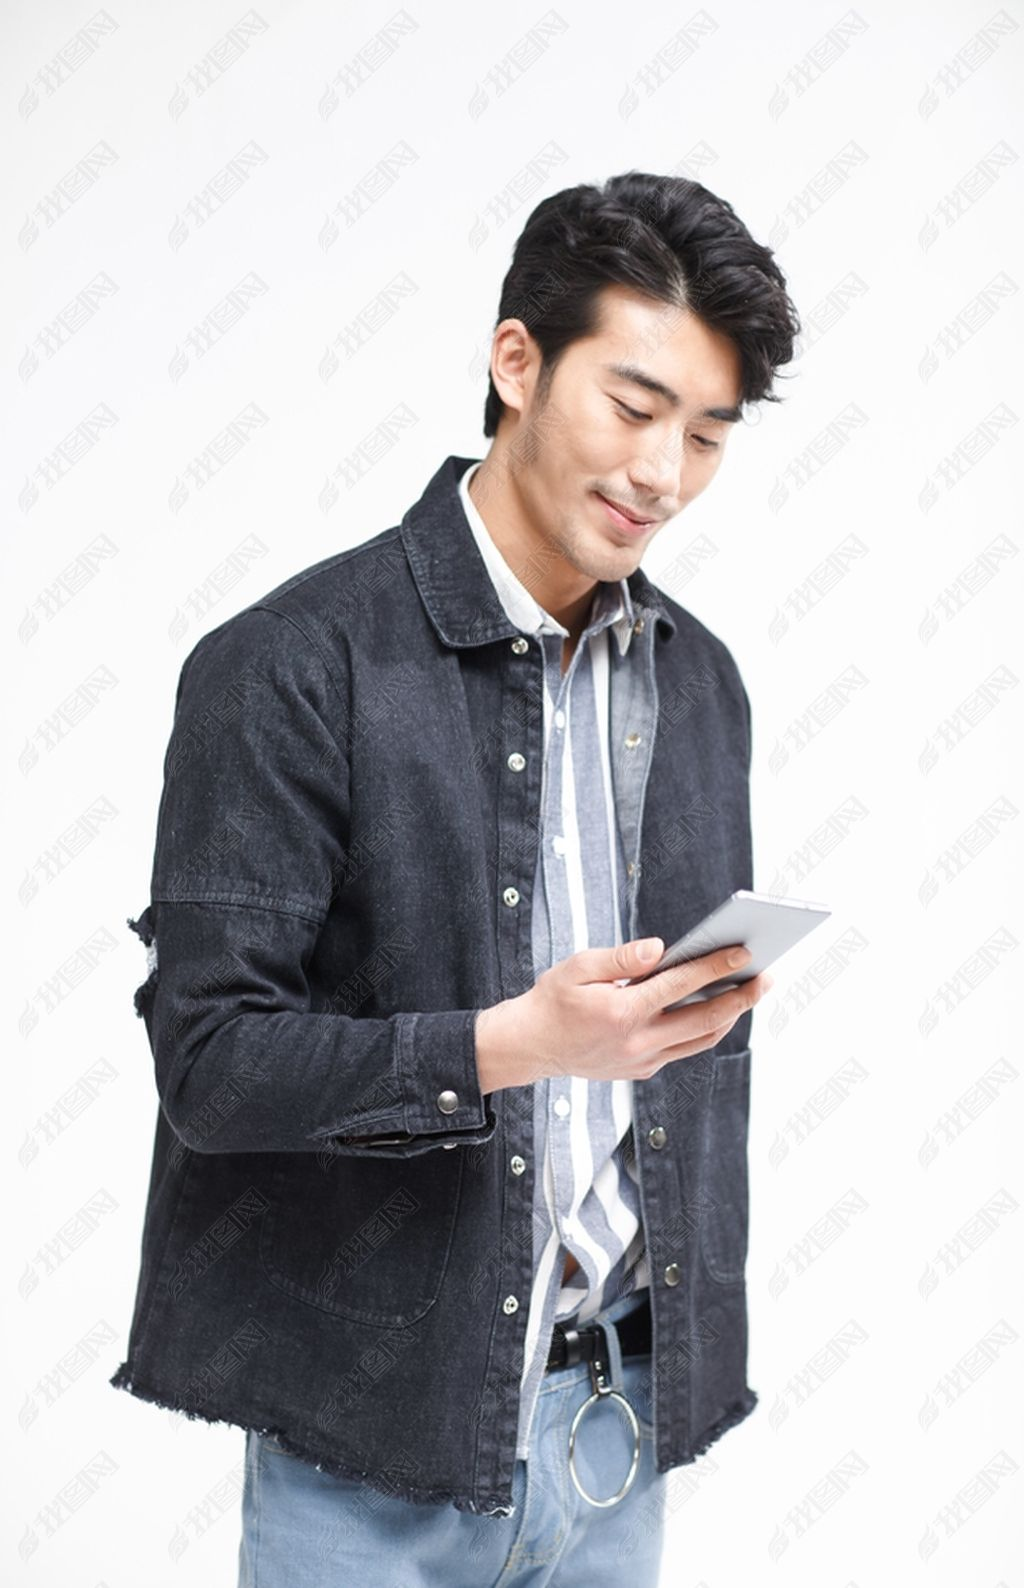reading: (502, 884, 845, 1091)
